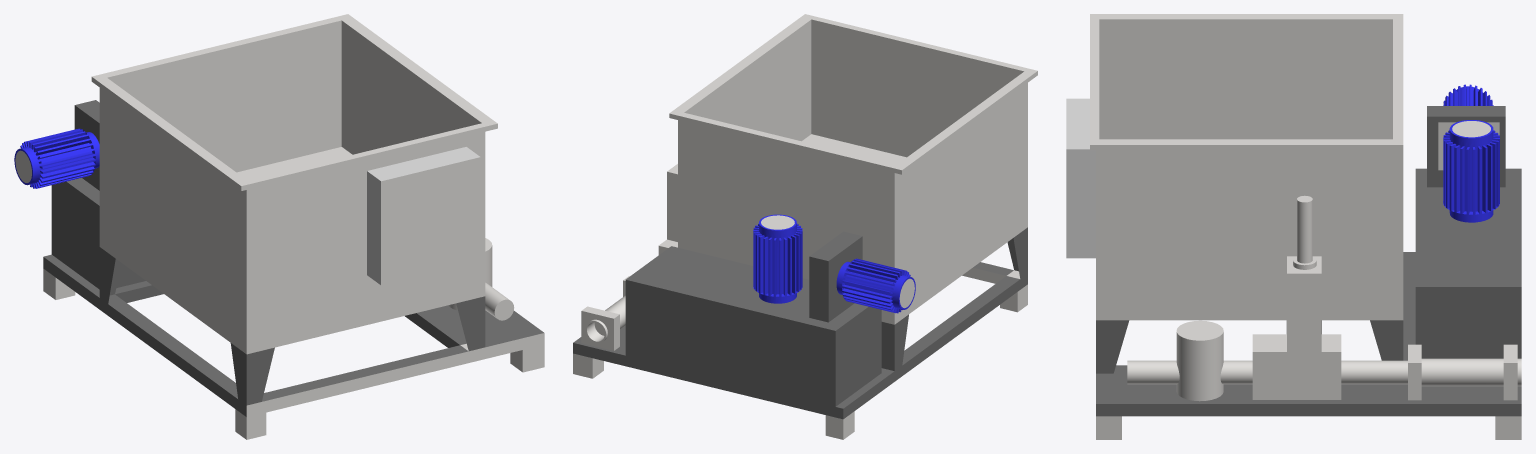
Rendered from Maquina4.fbx.
3 renders of one model, left to right at view 1: azimuth 30°, elevation 25°; view 2: azimuth 150°, elevation 25°; view 3: azimuth 270°, elevation 25°, orthographic. The views are drawn at different scales.
Visible parts, largest first — view 1: Layer0_001, Motor_005; view 2: Layer0_001, Motor_003, Motor_005; view 3: Layer0_001, Motor_003, Motor_005.
Part boxes in pixels (x1,y1,x2,y2): Layer0_001: (43,14,544,439); Motor_005: (14,128,99,188); Layer0_001: (573,14,1037,439); Motor_003: (753,214,802,303); Motor_005: (836,258,915,313); Layer0_001: (1066,14,1521,439); Motor_003: (1443,120,1499,222); Motor_005: (1443,84,1493,105).
Bounding box in the file's own units: 82.73 × 59.45 × 90.94.
